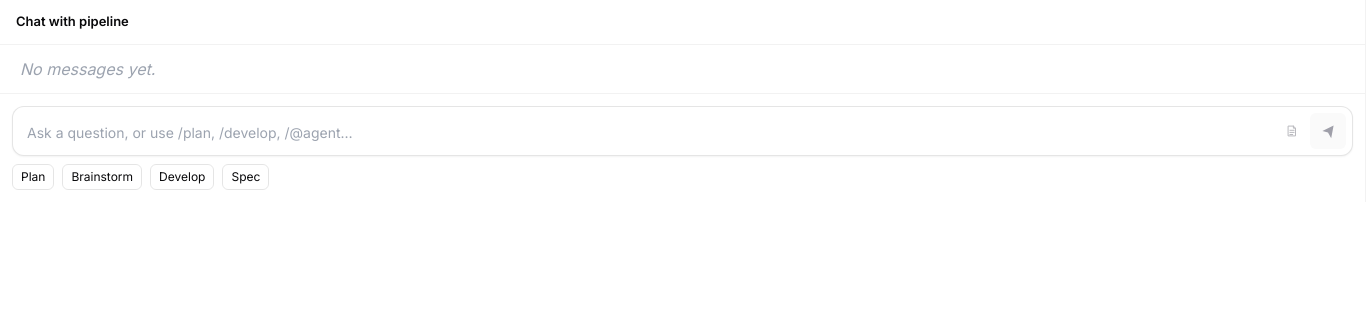
ChatPane › an assistant message renders with [data-testid='chat-message-agent'] and a data-agent attribute
The image size is (1366, 322).
Type "hi" into the text box with test id "chat-input" at (644, 132), box x1=19 y1=116 x2=1270 y2=148
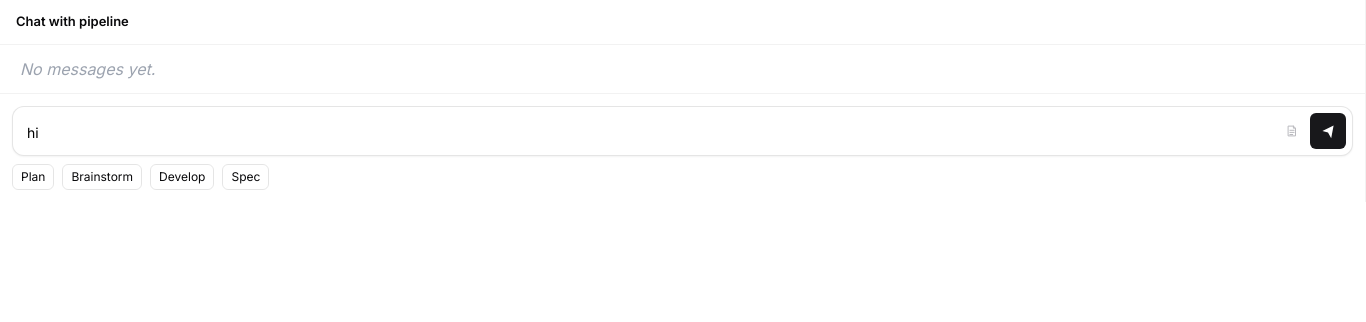
Click the button with test id "chat-send" at (1328, 130), box x1=1310 y1=112 x2=1346 y2=148
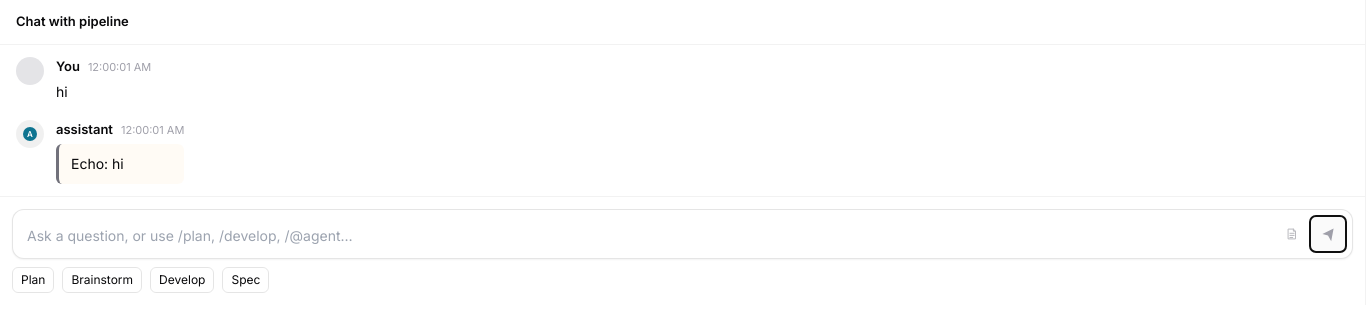
Result: the element with test id "chat-message-agent" is shown at x1=16 y1=120 x2=184 y2=184
